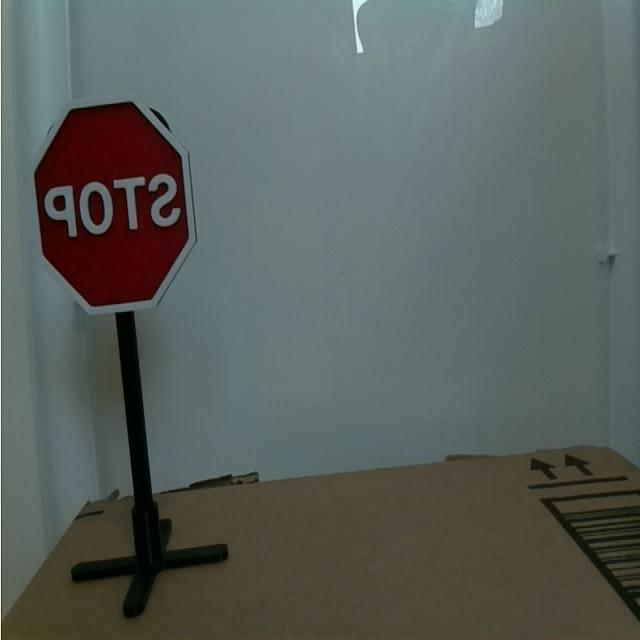sign_stop: (21, 84, 206, 328)
